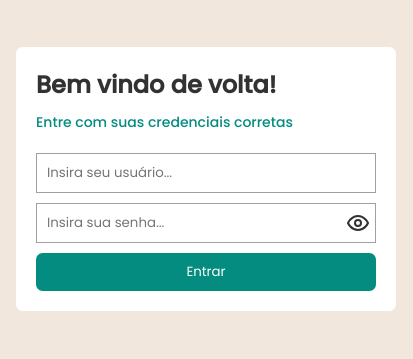
SignIn › should be return an error message for invalid username
This screenshot has width=413, height=359.
Step 1. Type "invalid username with space" into the field with placeholder "Insira seu usuário..." → x=206, y=173, box [42, 154, 370, 192]
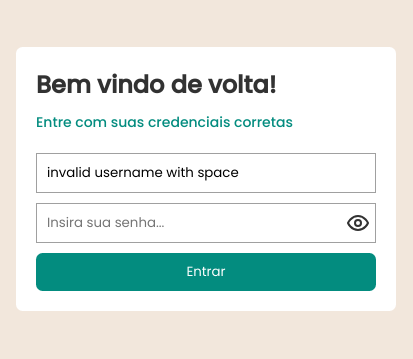
Step 2. Submit the form from the button with test id "button", box [36, 253, 376, 291]
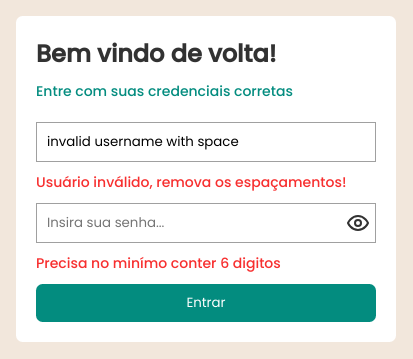
Result: the text "Usuário inválido, remova os espaçamentos!" is shown at [36, 172, 376, 193]
